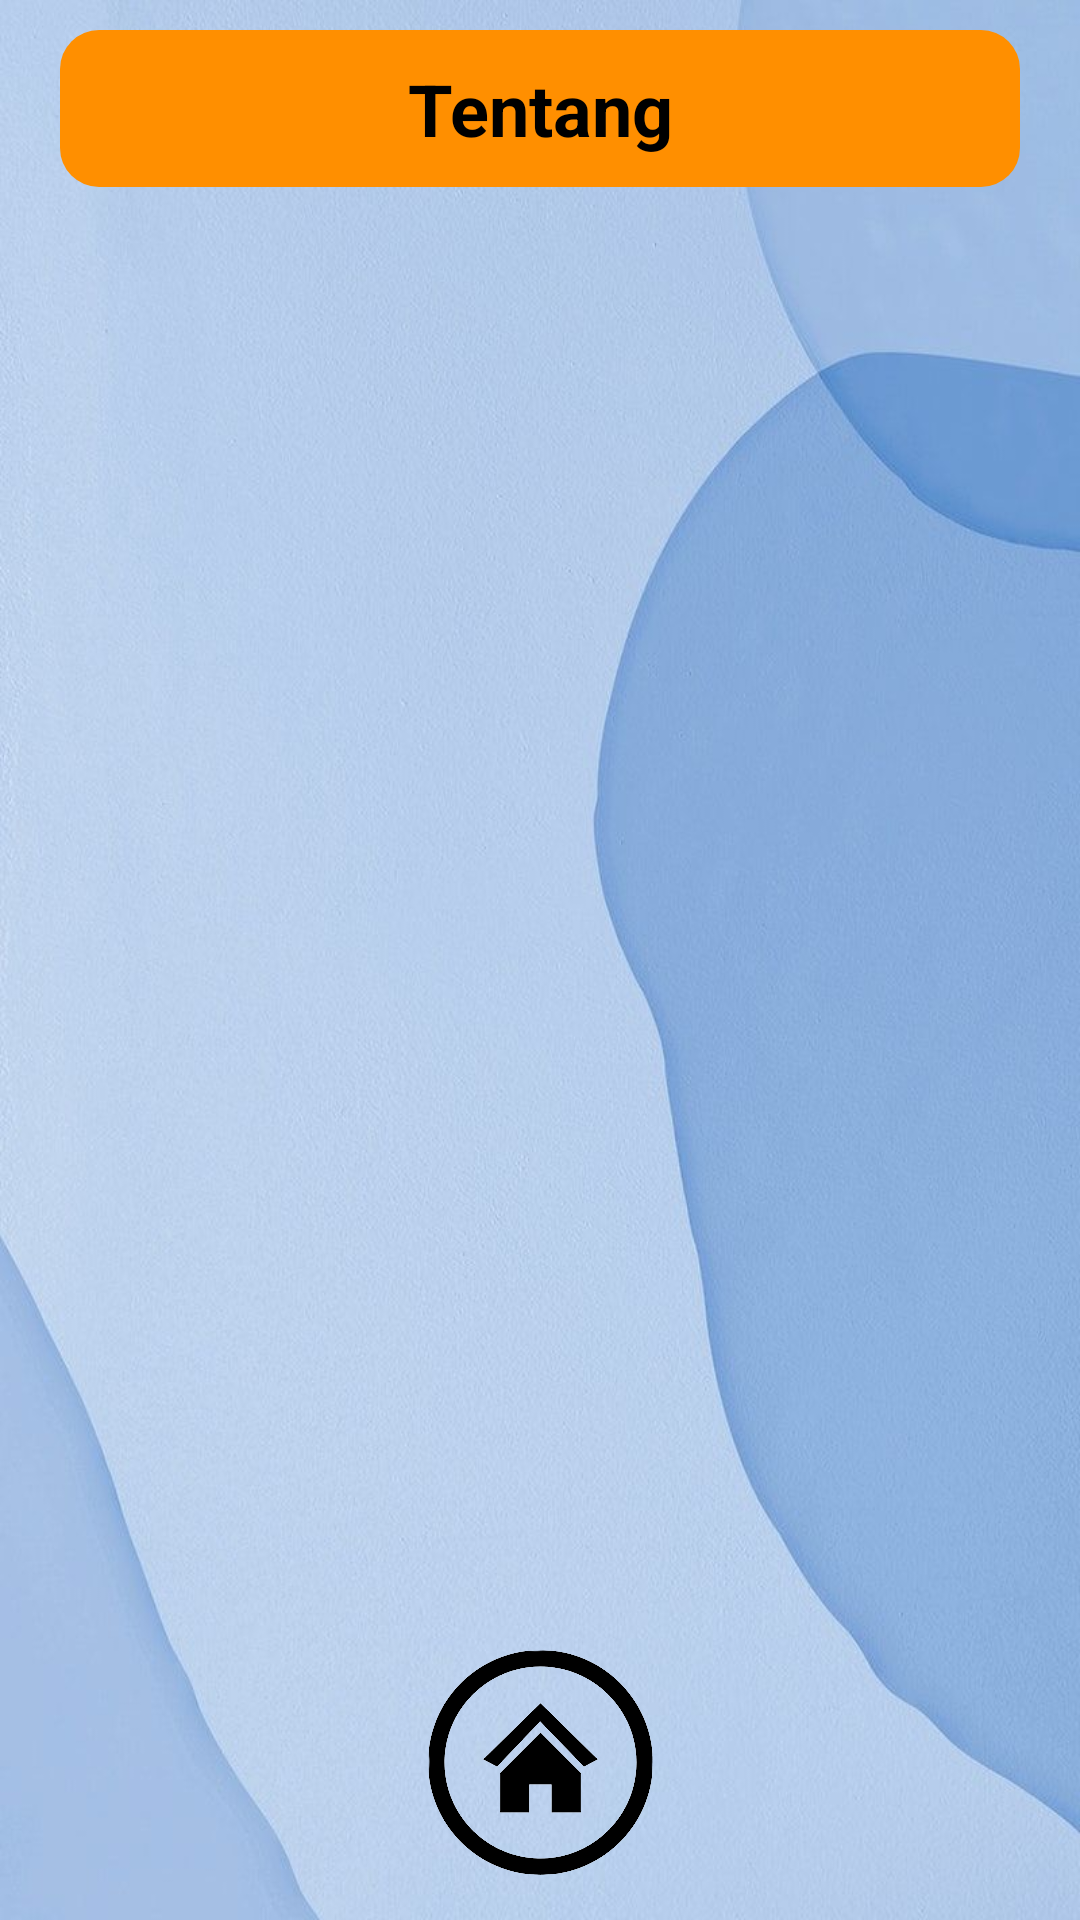

Locate icon controls on the screen. Image size 1080px x 1920px, boxes as (x1, y1, x2, y2).
home: (428, 1650, 653, 1875)
